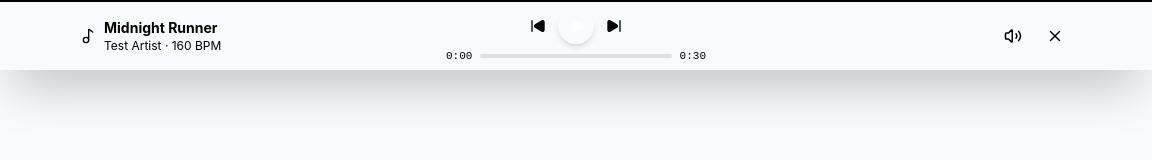
Scenario: MiniPlayerBar › mute par clic : coupe le son (previewAudioRef.current.volume → 0) puis restaure le niveau précédent au 2e clic
Click the button titled "Couper le son" at (1013, 36), box top-left (996, 19), bottom-right (1030, 53)
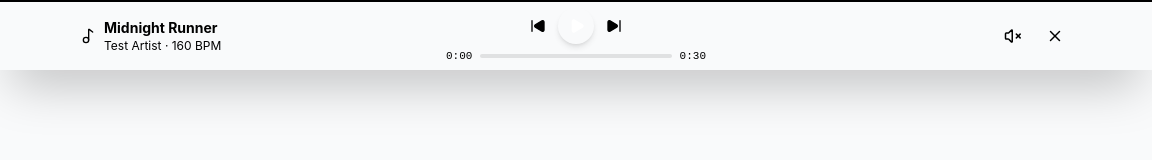
Expected: the button titled "Réactiver le son" is shown
Click the button titled "Réactiver le son" at (1013, 36), box top-left (996, 19), bottom-right (1030, 53)
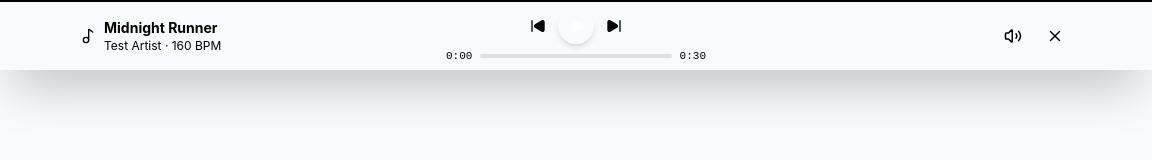
Expected: the button titled "Couper le son" is shown, top-left (996, 19), bottom-right (1030, 53)
